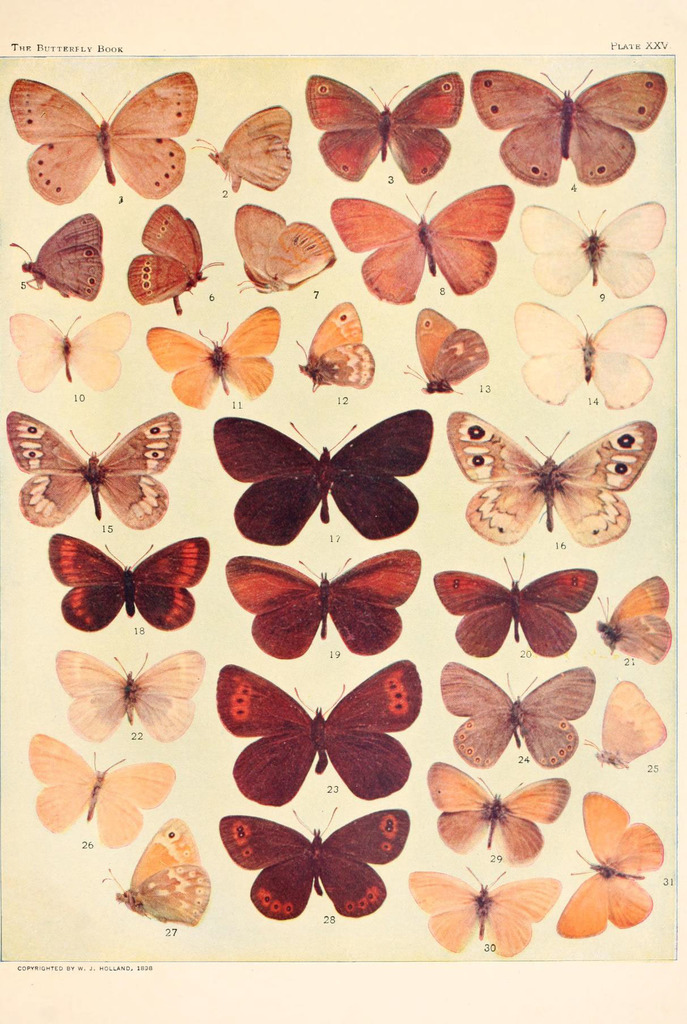Butterfly: (204, 406, 442, 547), (453, 399, 667, 548), (218, 656, 420, 809), (8, 59, 207, 204), (471, 58, 672, 192), (326, 185, 525, 313), (220, 545, 436, 660), (218, 806, 415, 930), (1, 404, 186, 529), (429, 648, 617, 770), (293, 54, 461, 188), (514, 281, 671, 412), (40, 529, 218, 637), (21, 738, 186, 848), (522, 199, 679, 308), (43, 644, 206, 747), (415, 755, 570, 860), (433, 556, 590, 654), (149, 305, 288, 410), (406, 872, 564, 963), (1, 310, 142, 401)
